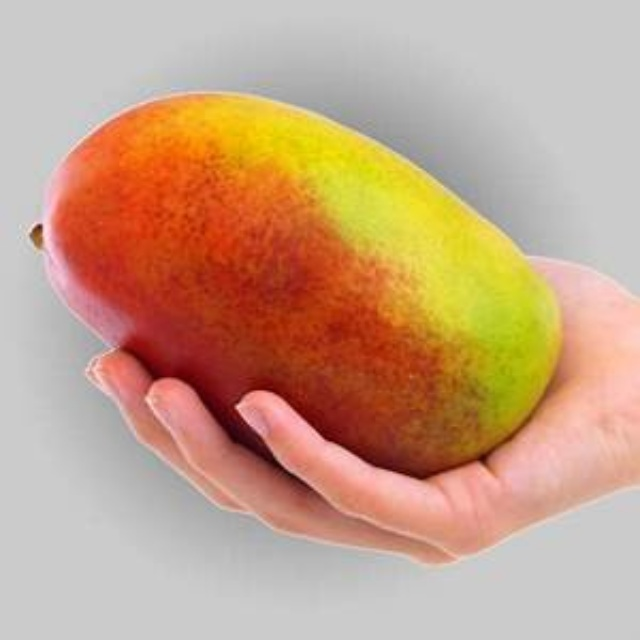mango: (38, 88, 564, 483)
